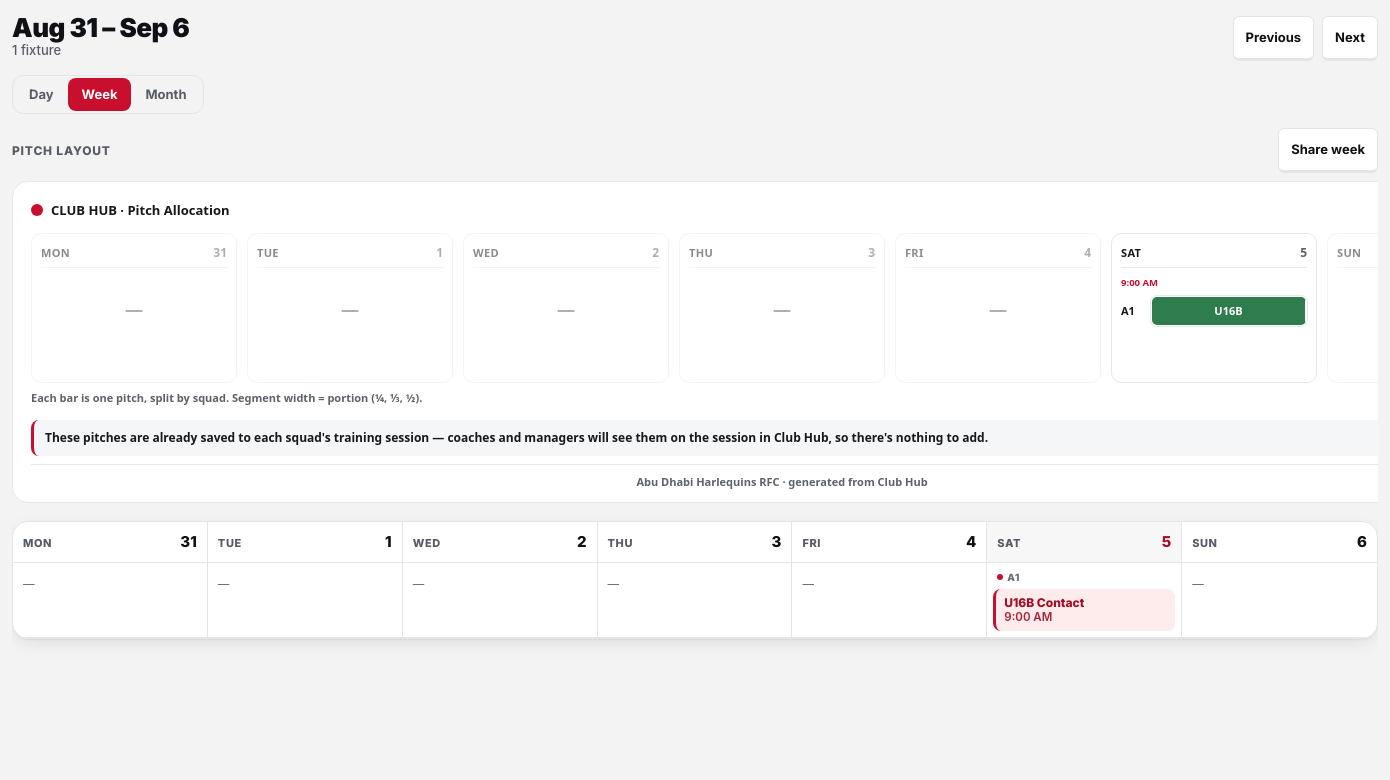
the screen › ⚠️ Week → Day opens the FIRST day of that week, not the last
This screenshot has width=1390, height=780.
expect the element with test id "pitch-week" is shown: met, box [13,522,1377,638]
# Page to a different week first so "today" cannot coincide with the Monday.
Click the button "Next": (1350, 38) [1322,16,1378,61]
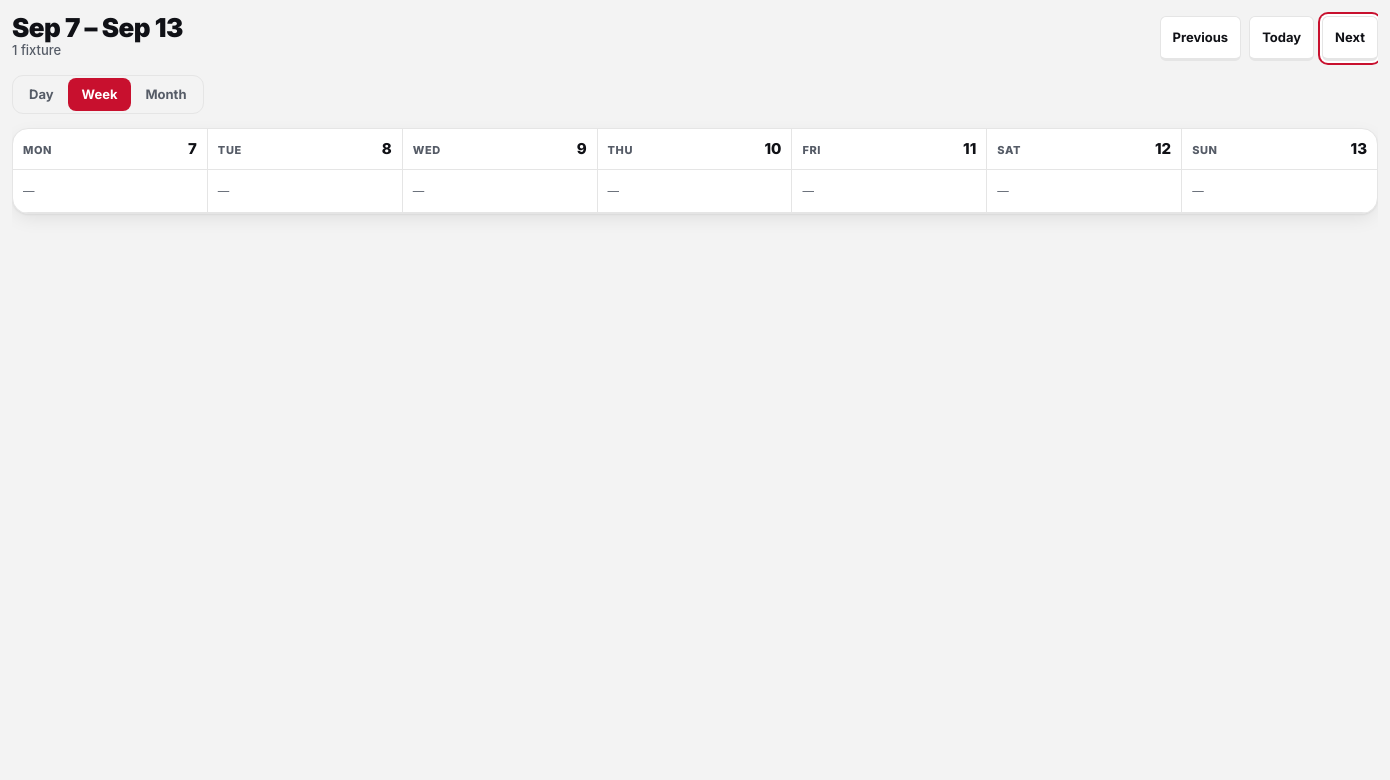
Click the tab "Day": (41, 95) [15,78,68,111]
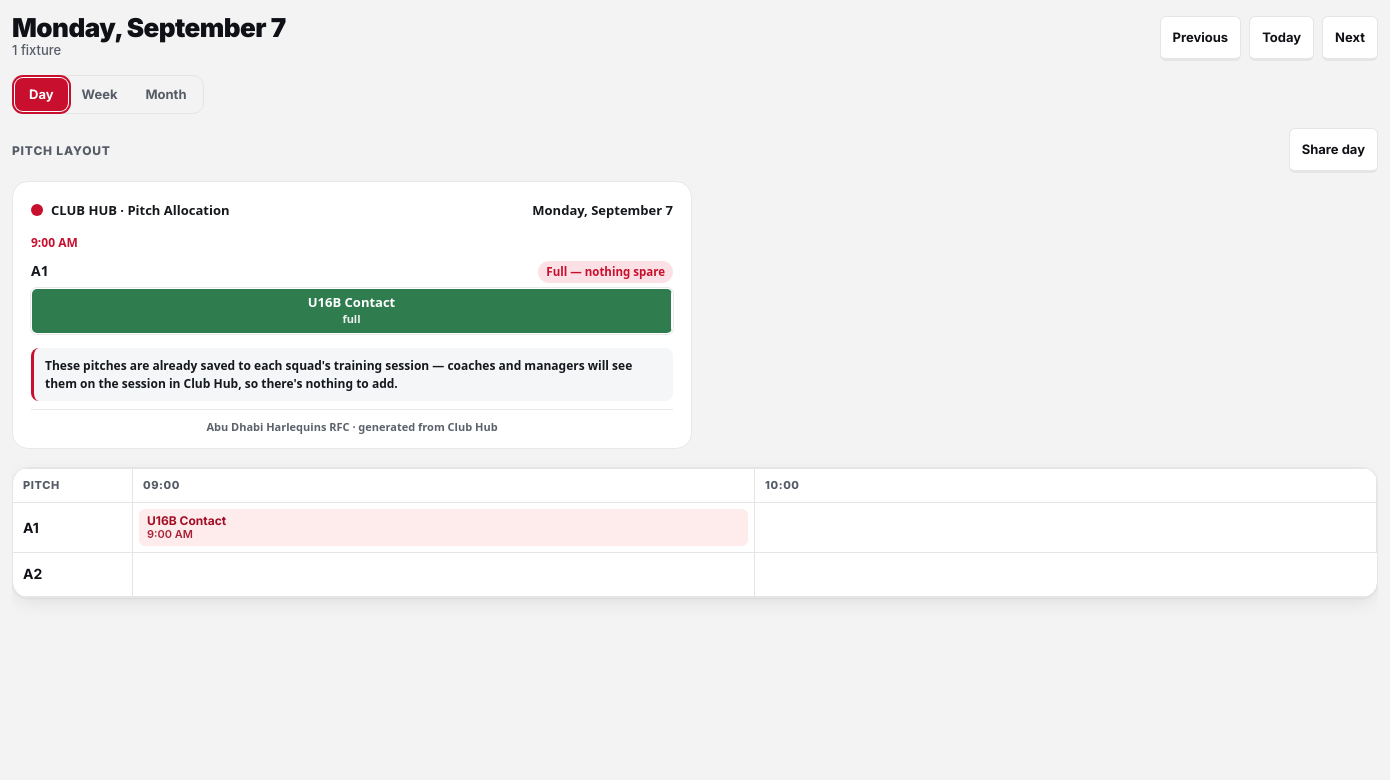
expect the heading "Monday, September 7" is shown: met, box [12,16,286,40]
